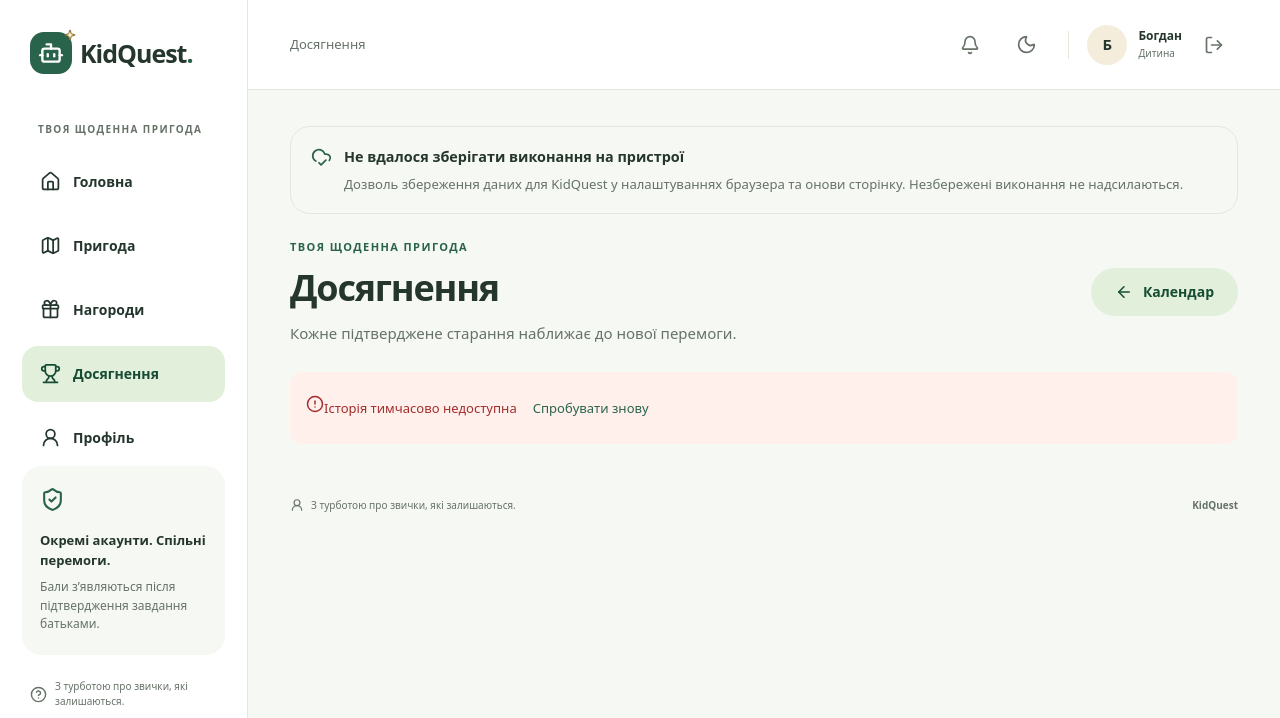
Achievement screens › retries a failed request and replaces the error with achievements
The image size is (1280, 718).
Expected: the message "Історія тимчасово недоступна Спробувати знову" is shown, [290,372,1238,444]
Click the button "Спробувати знову": (591, 408) [517,384,665,432]
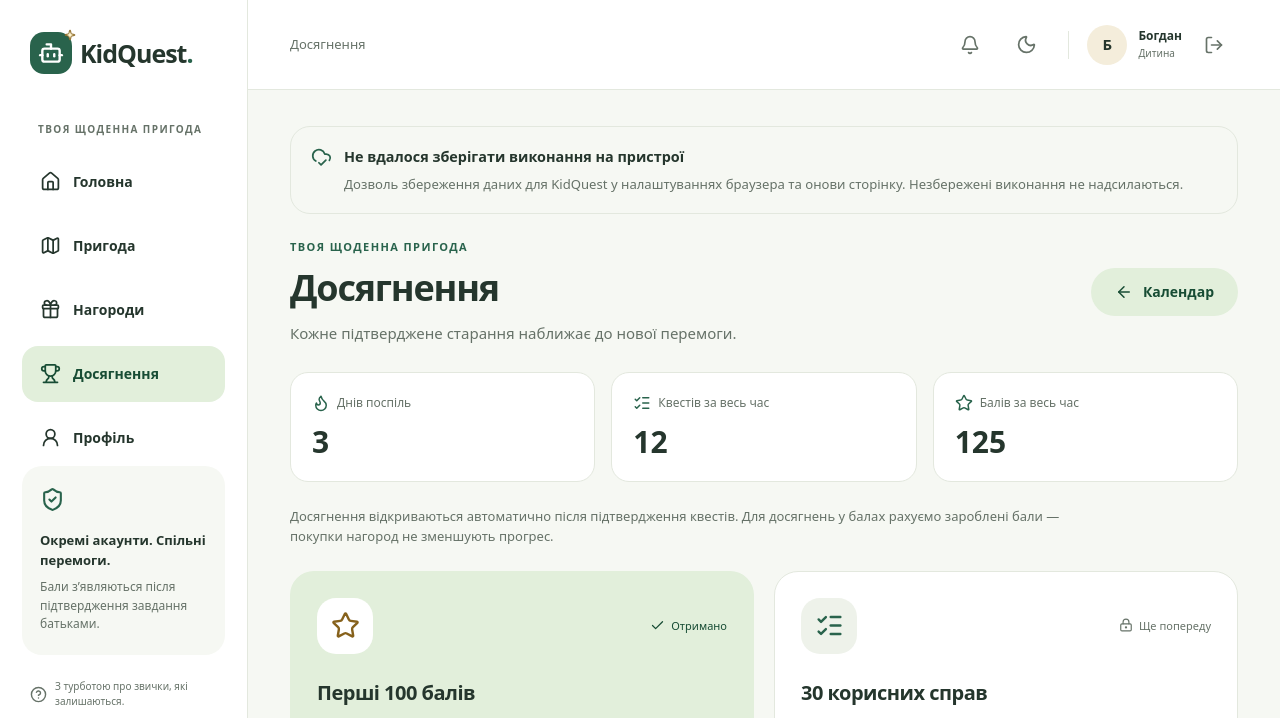
Expected: the heading "Перші 100 балів" is shown, [317,678,475,706]
